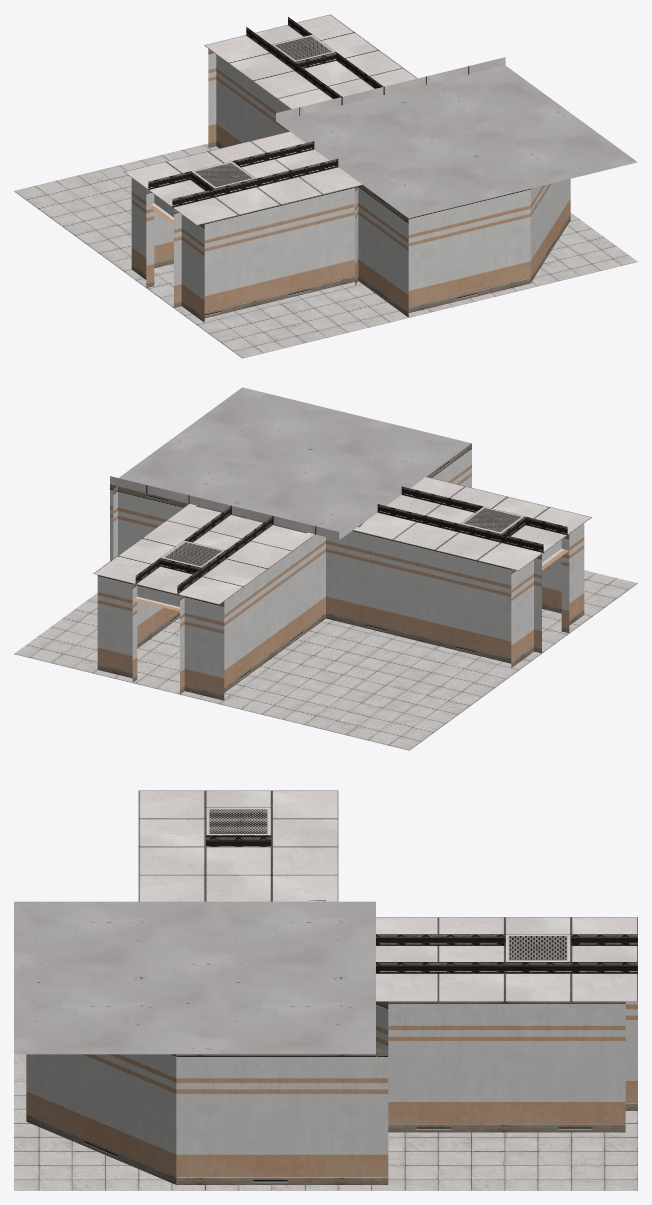
File: RZ_room2C.obj
The picture shows the model from 3 angles, top to bottom: view 1: azimuth 30°, elevation 25°; view 2: azimuth 150°, elevation 25°; view 3: azimuth 270°, elevation 25°; orthographic projection. The views are drawn at different scales.
Parts seen in each view (by area): view 1: OZ_room2C; view 2: OZ_room2C; view 3: OZ_room2C.
Part boxes in pixels (left/top/right/bottom): OZ_room2C: left=14, top=14, right=637, bottom=358; OZ_room2C: left=14, top=387, right=637, bottom=750; OZ_room2C: left=14, top=790, right=637, bottom=1190.
Size of the model in its own units: 16 by 4.17 by 16.
